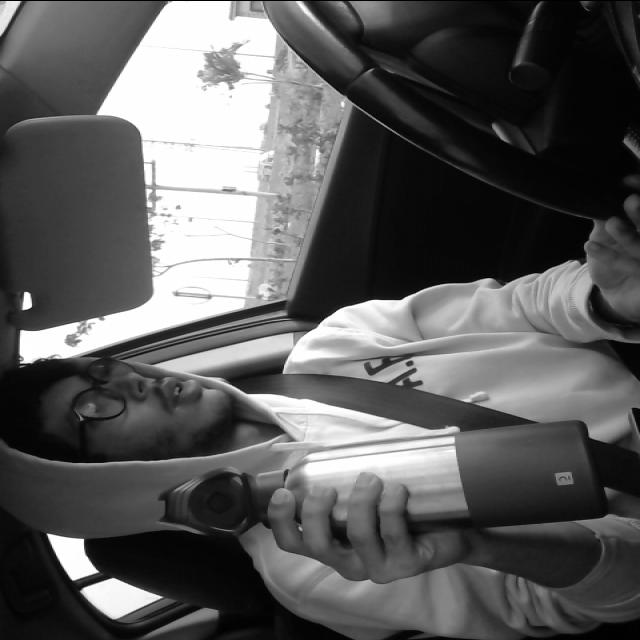drinking: (148, 414, 612, 546)
